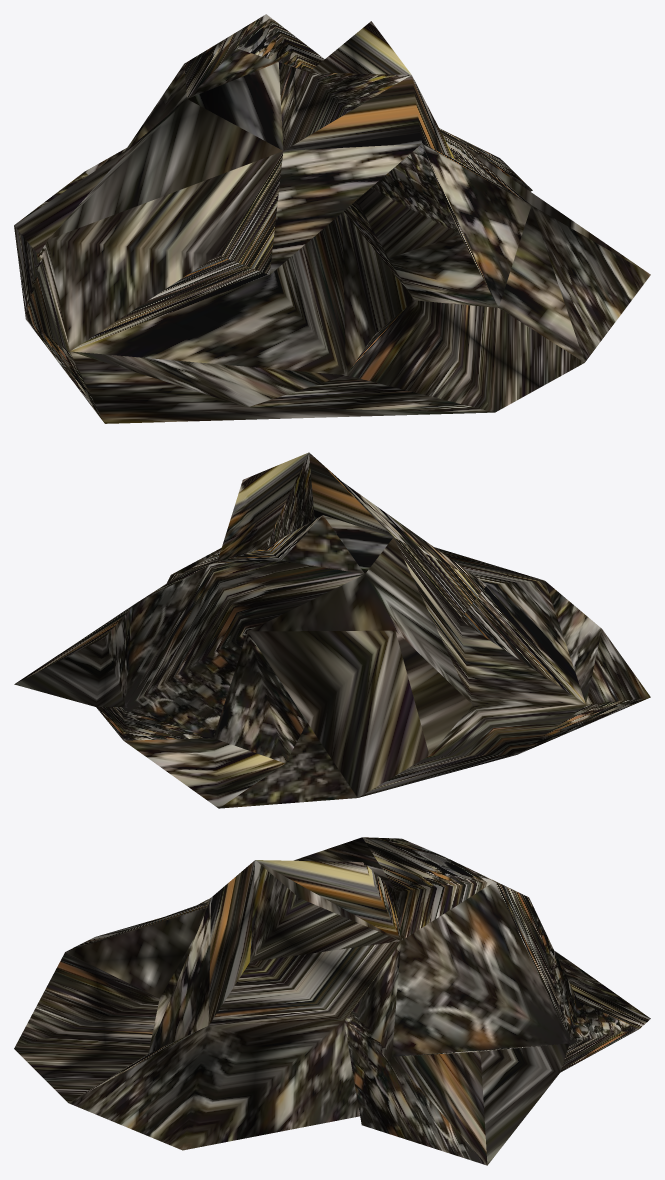
Rendered from Rubble_Pile.glb.
3 renders of one model, top to bottom at view 1: azimuth 30°, elevation 25°; view 2: azimuth 150°, elevation 25°; view 3: azimuth 270°, elevation 25°, orthographic. The views are drawn at different scales.
Visible parts, largest first — view 1: Rubble_Pile; view 2: Rubble_Pile; view 3: Rubble_Pile.
Part boxes in pixels (box(x1,y1,x2,y2)): Rubble_Pile: box(14, 14, 650, 423); Rubble_Pile: box(14, 452, 650, 808); Rubble_Pile: box(14, 837, 650, 1165).
Size of the model in its own units: 1.63 by 0.6526 by 1.73.
Materials: 1 (1 with a texture image).
